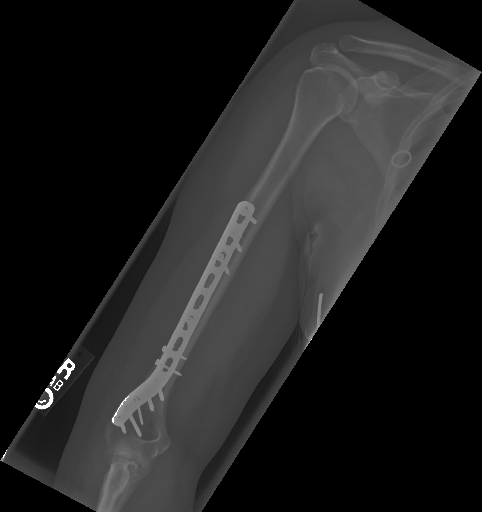implant: (111, 200, 258, 436)
